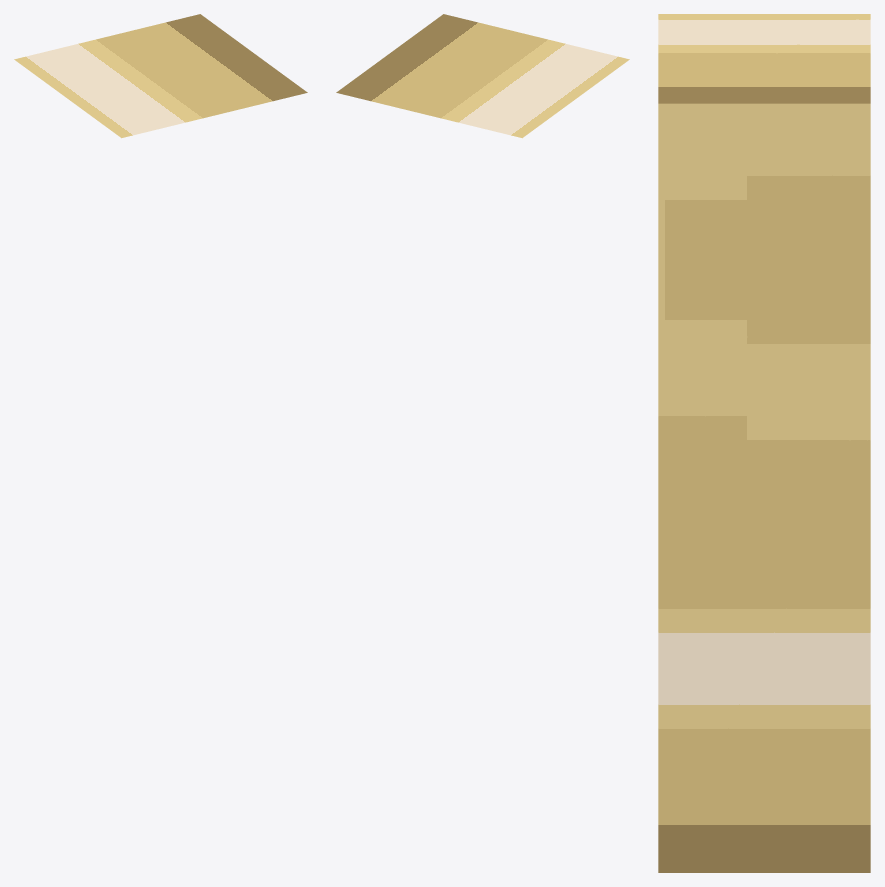
3 views of the same model, side by side, from view 1: azimuth 30°, elevation 25°; view 2: azimuth 150°, elevation 25°; view 3: azimuth 270°, elevation 25° (orthographic).
Size of the model in its own units: 1 by 4 by 1.
1 material, 1 textured.
